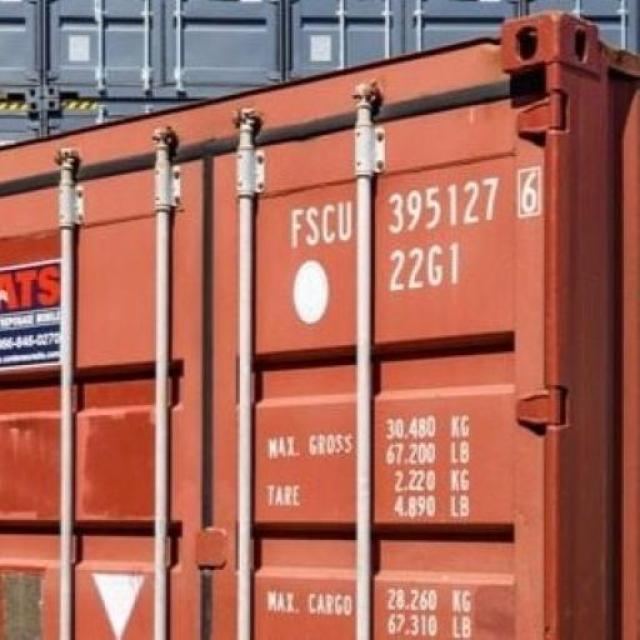ISO: (390, 248, 470, 293)
container_number: (284, 157, 558, 251)
